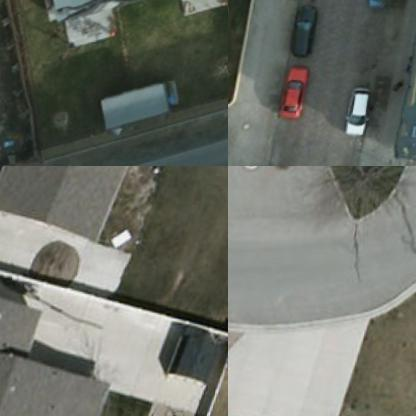car: (288, 0, 322, 55), (278, 64, 312, 119), (349, 83, 374, 139), (366, 0, 398, 15)
